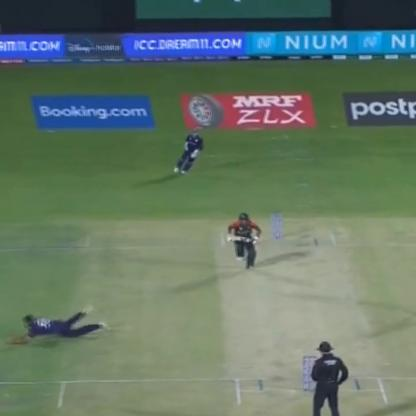pitch: (194, 220, 399, 413)
